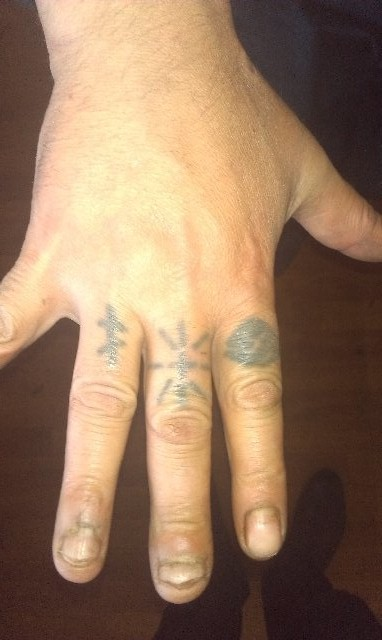tatu9_krest: (94, 300, 132, 378), (171, 348, 200, 390)
